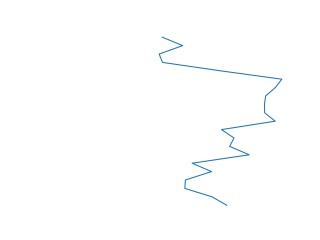floodPlain: (157, 36, 284, 208)
